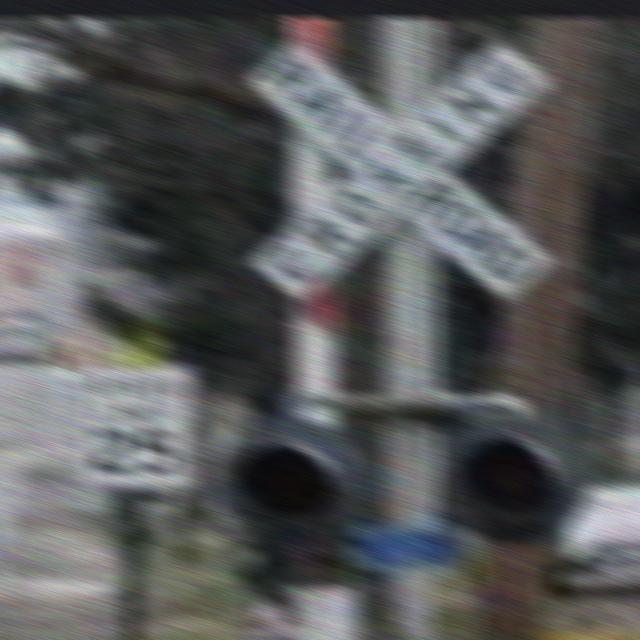speedLimit25: (78, 369, 192, 486)
